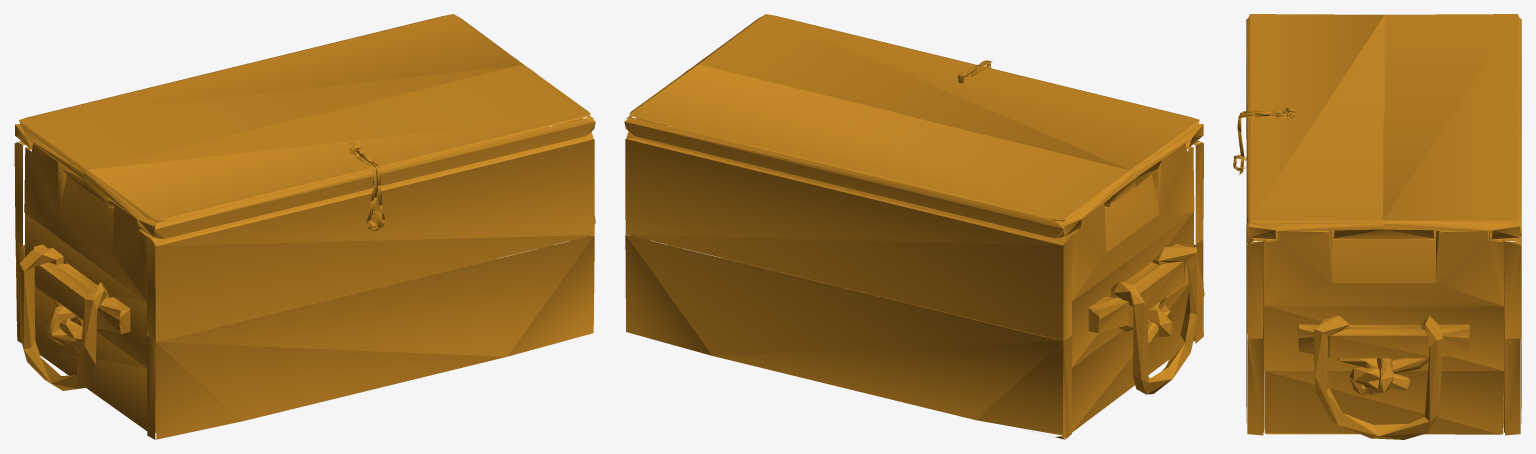
Rendered from crate_wood.glb.
The picture shows the model from 3 angles, left to right: view 1: azimuth 30°, elevation 25°; view 2: azimuth 150°, elevation 25°; view 3: azimuth 270°, elevation 25°; orthographic projection. The views are drawn at different scales.
Parts seen in each view (by area): view 1: crate_wood; view 2: crate_wood; view 3: crate_wood.
Boxes of the visible parts, left/top/right/bottom form: crate_wood: left=14, top=14, right=595, bottom=439; crate_wood: left=624, top=14, right=1204, bottom=439; crate_wood: left=1233, top=14, right=1521, bottom=439.
Bounding box in the file's own units: 0.8202 × 0.3482 × 0.4076.
